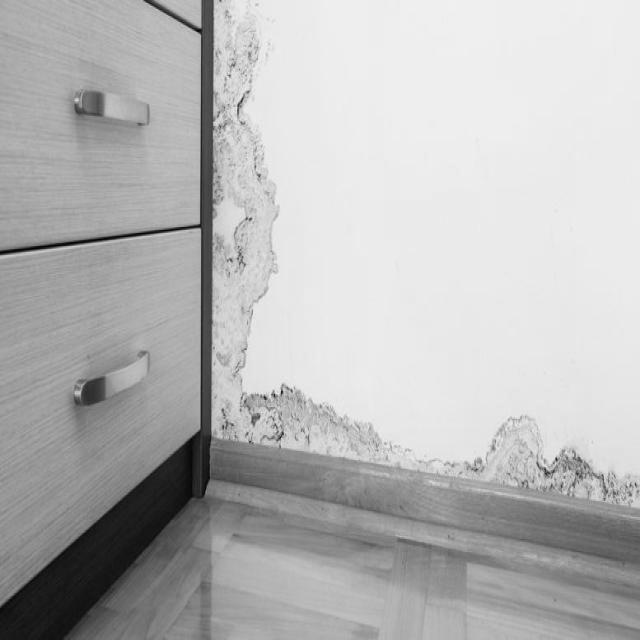stain marks: (212, 382, 640, 512), (214, 1, 282, 448)
